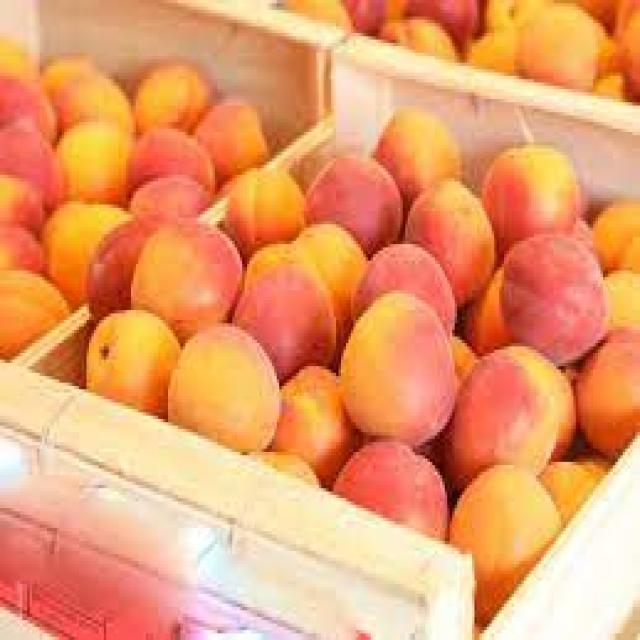kayisi: (160, 320, 308, 461), (486, 229, 620, 368), (340, 314, 462, 434), (132, 222, 254, 320)
